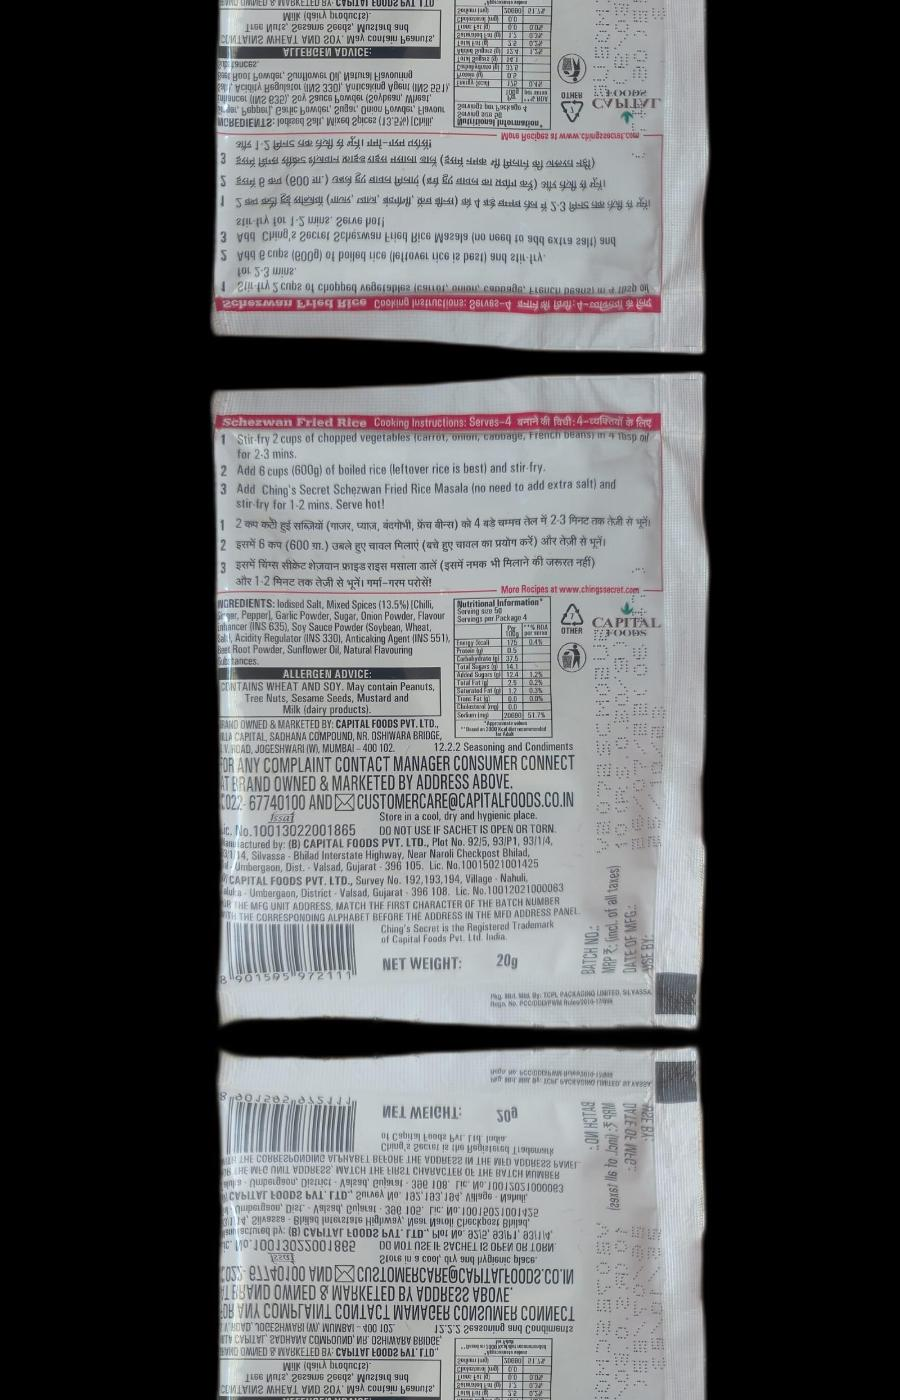Ching-s secret schezwan fried masala: (208, 384, 702, 1024), (208, 1049, 701, 1400), (208, 0, 701, 340)
